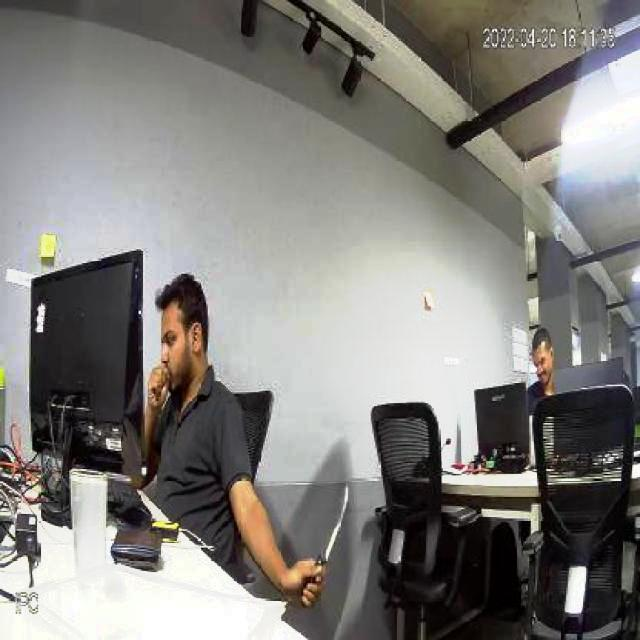Knife: (306, 483, 366, 609)
